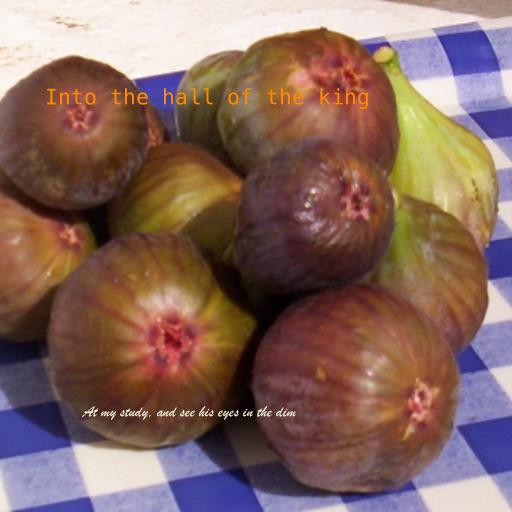Brush Script MT: (82, 406, 296, 420)
Menlo: (44, 88, 370, 109)
